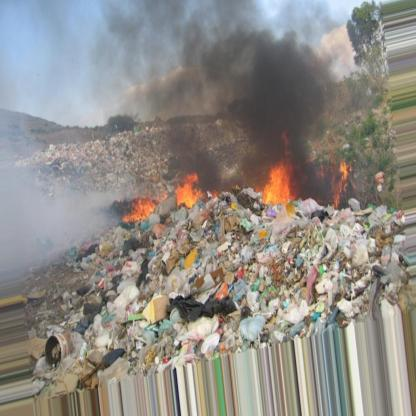fire: (257, 150, 303, 207), (312, 156, 357, 210), (109, 188, 163, 224), (172, 174, 221, 209)
smoke: (156, 1, 335, 162), (1, 172, 43, 265), (108, 116, 134, 129)
